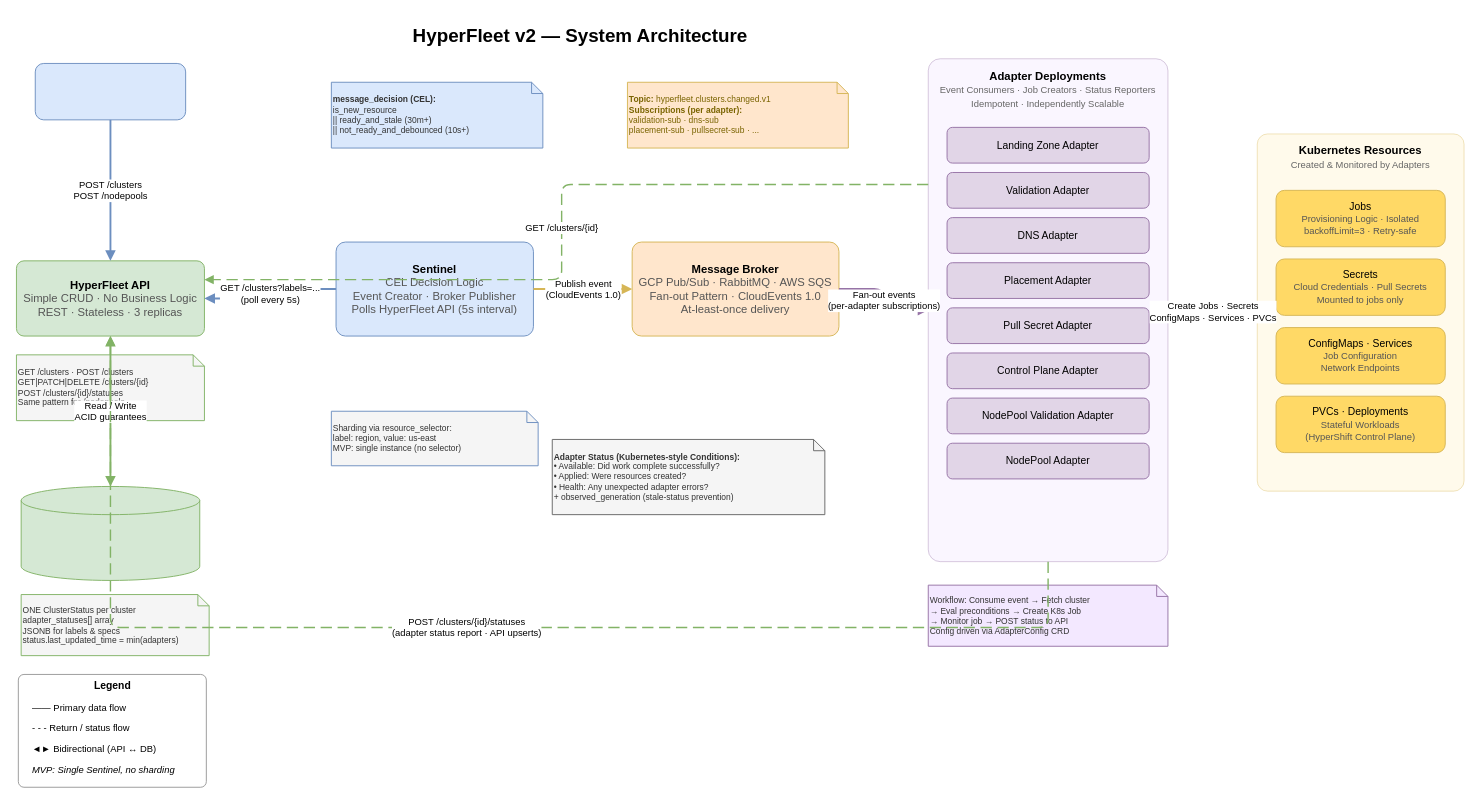
Some shapes in this 1481 by 804 pixel diagram are drawn without their labels. The shapes that lost their labels are listed below. From the top down, each one's box as (x1, y1, x2, y2) in pixels, then its label:
(34, 63, 186, 120): User / System External Client
(20, 486, 200, 580): PostgreSQL clusters · nodepools cluster_statuses
